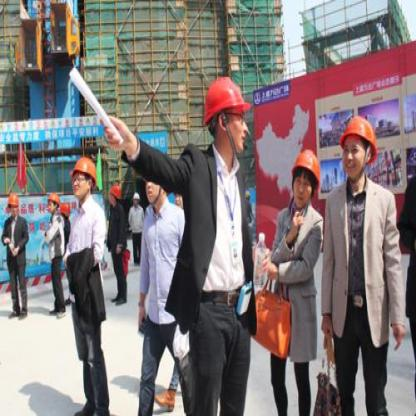helmet: (202, 74, 251, 156), (334, 114, 382, 181), (288, 148, 321, 214), (68, 156, 99, 198), (46, 190, 64, 216), (7, 188, 21, 219), (107, 182, 122, 206), (131, 192, 142, 210)
